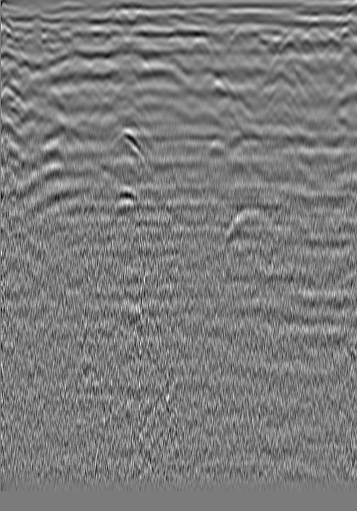가스: (111, 184, 141, 211)
상수: (29, 17, 49, 37)
오수: (297, 28, 317, 48)
우수: (164, 30, 184, 50)
